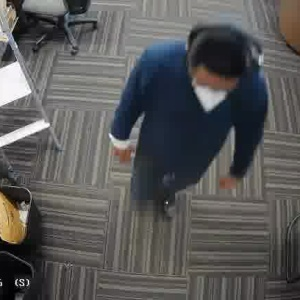person: (117, 18, 266, 221)
